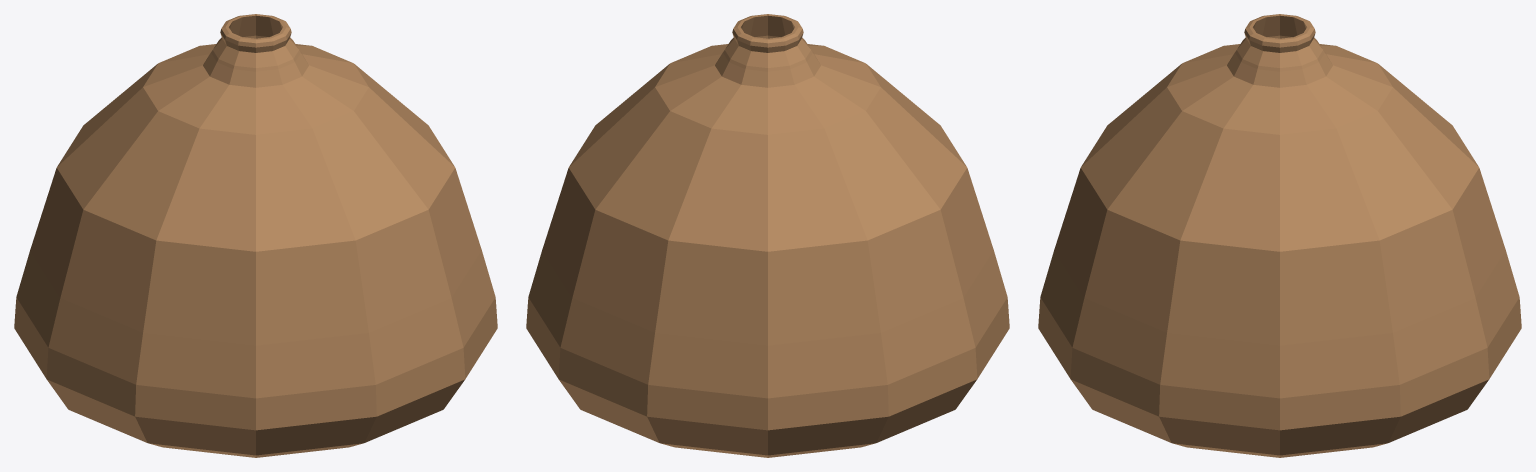
File: Pot03.fbx
3 renders of one model, left to right at view 1: azimuth 30°, elevation 25°; view 2: azimuth 150°, elevation 25°; view 3: azimuth 270°, elevation 25°, orthographic.
Parts seen in each view (by area): view 1: Pot03; view 2: Pot03; view 3: Pot03.
Boxes of the visible parts, <box> form: Pot03: <box>14,14,497,457</box>; Pot03: <box>526,14,1009,457</box>; Pot03: <box>1038,14,1521,457</box>.
Bounding box in the file's own units: 138 × 118 × 138.
